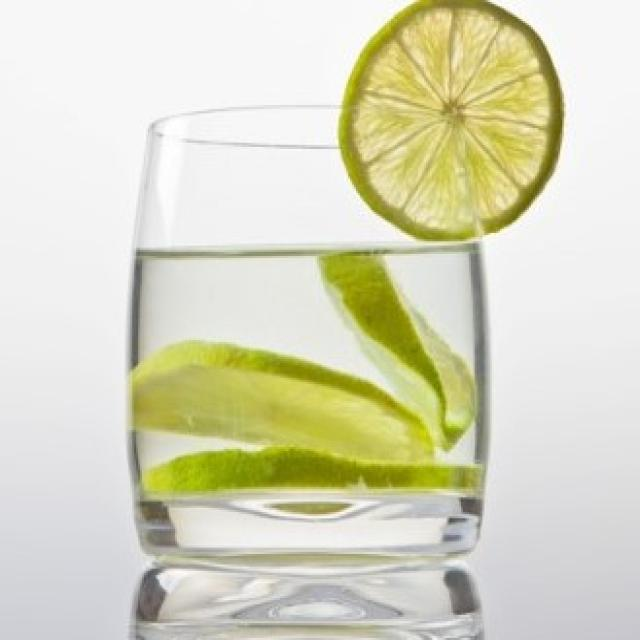electronic: (131, 109, 503, 572)
